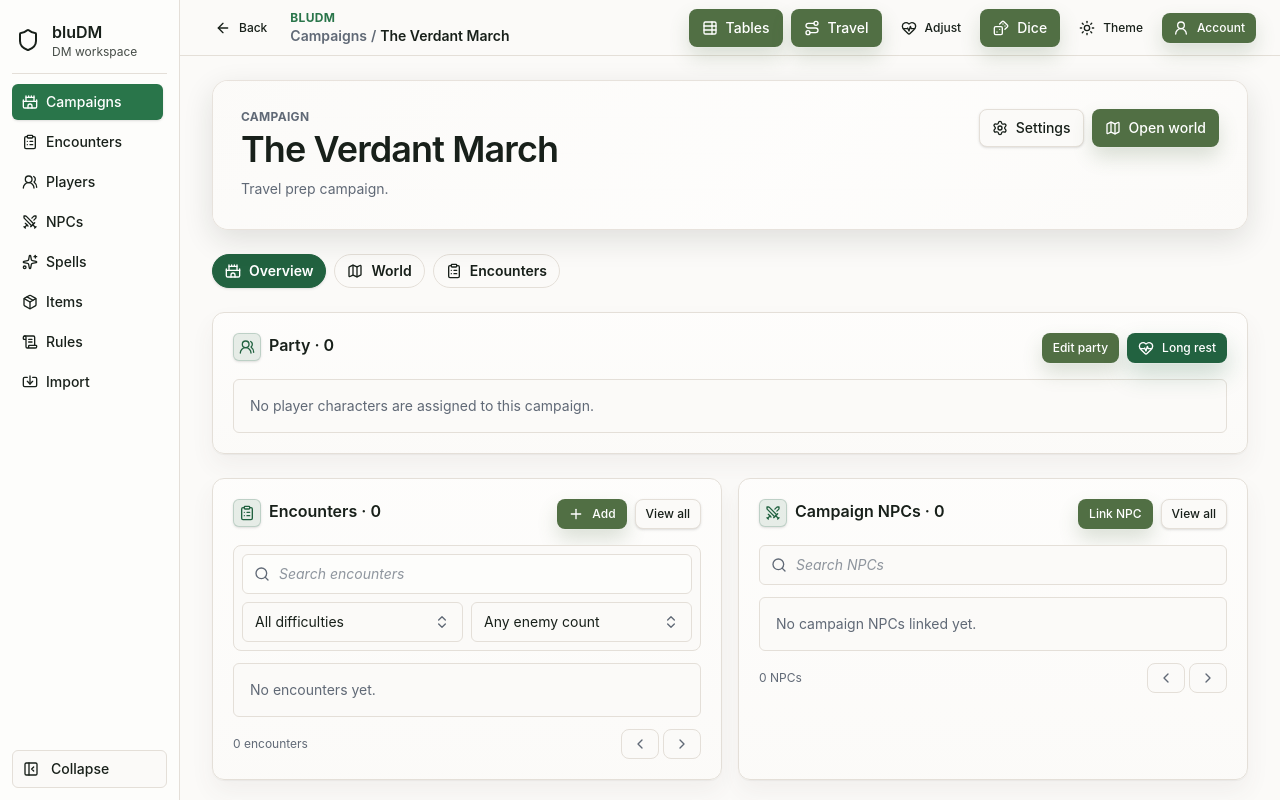
it: CampaignDetailPage travel › recalculates when good roads changes effective pace
Click the button "Travel": (836,28) [791,8,882,46]
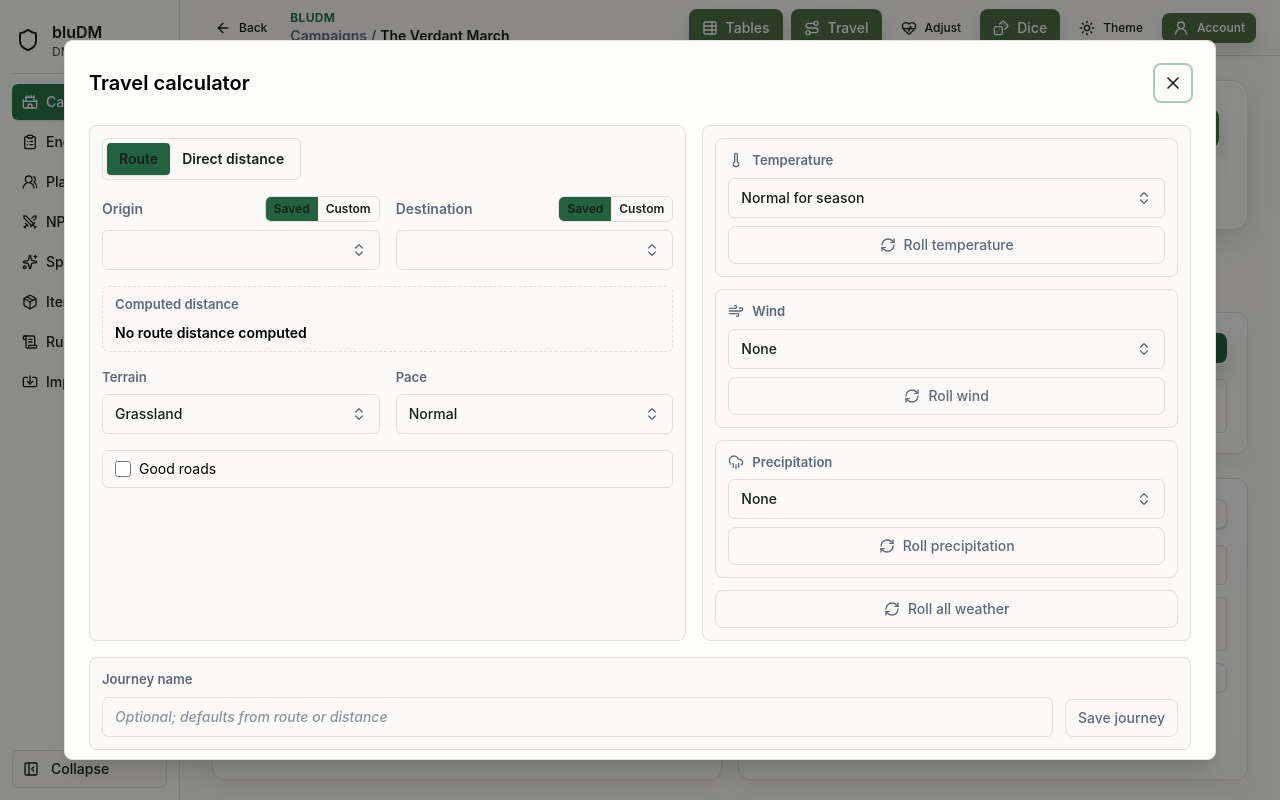
Click the button "Direct distance": (233,159) [170,143,296,175]
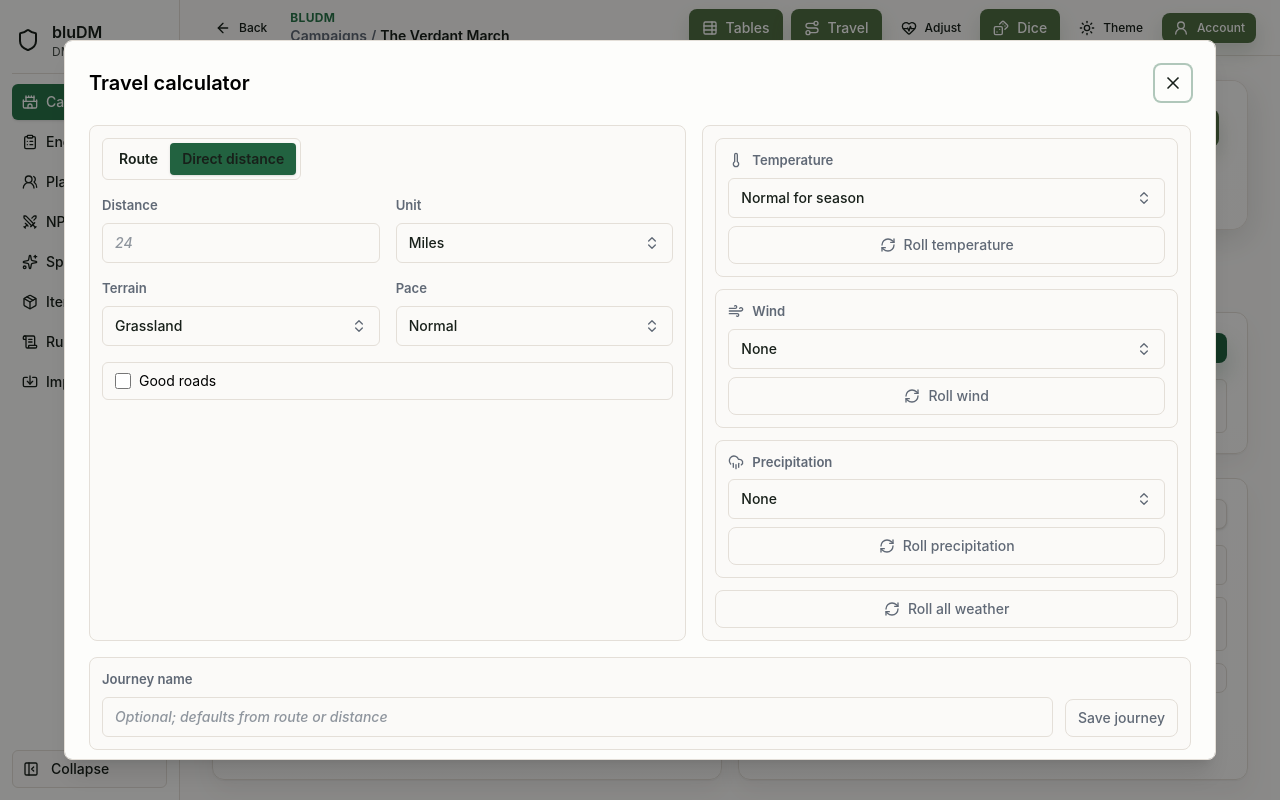
In the number field labelled "Distance": (241,243) [102,223,380,263], type "60"
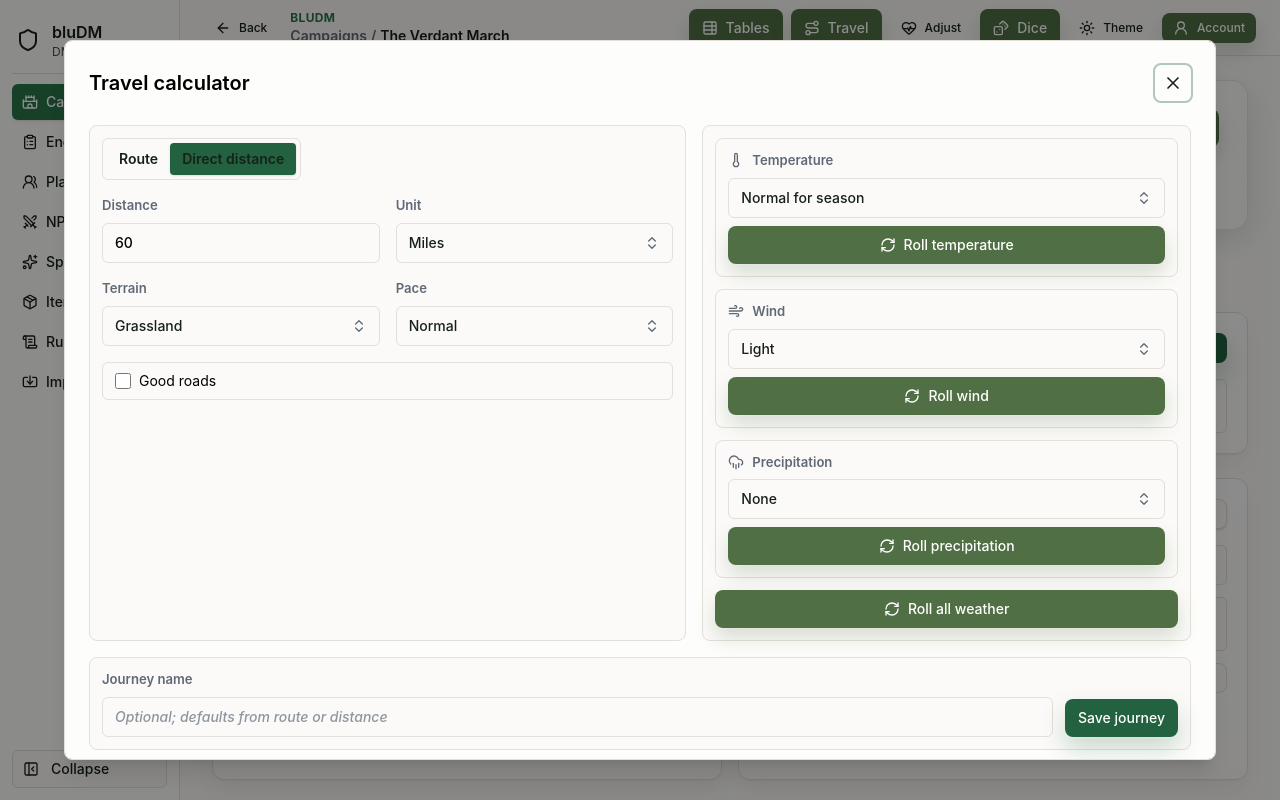
Click the checkbox labelled "Good roads": (123,380) [115,372,131,388]
(page scrolled)
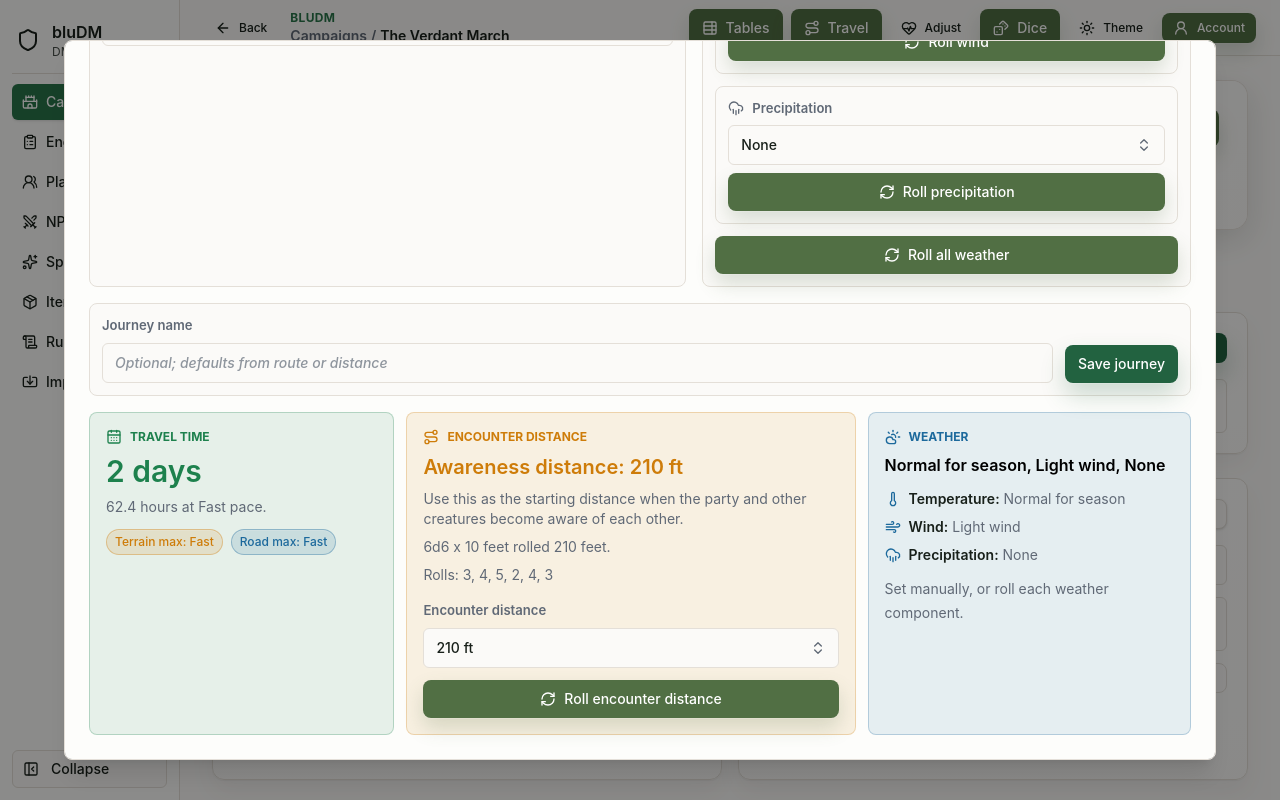
Check: the text "2 days" is shown, box [106,453,202,489]
